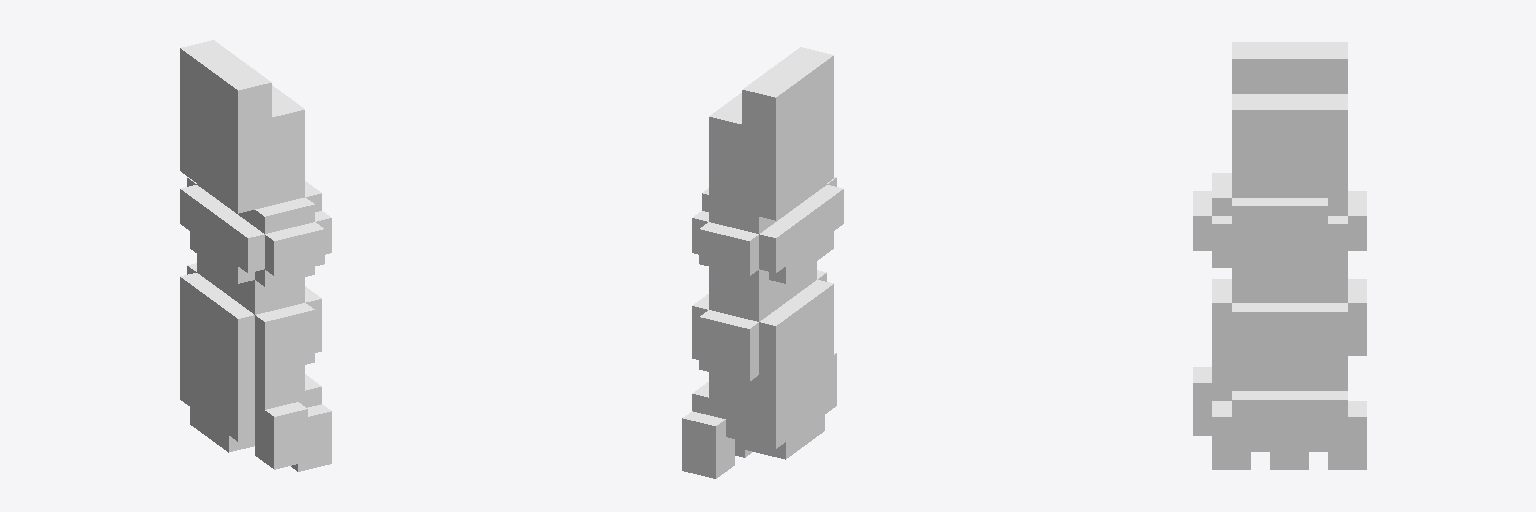
File: Pushkar-1.obj
3 renders of one model, left to right at view 1: azimuth 30°, elevation 25°; view 2: azimuth 150°, elevation 25°; view 3: azimuth 270°, elevation 25°, orthographic.
Visible parts, largest first — view 1: object 1; view 2: object 1; view 3: object 1.
Part boxes in pixels (left/top/right/bottom): object 1: left=180, top=40, right=331, bottom=471; object 1: left=682, top=47, right=843, bottom=478; object 1: left=1193, top=42, right=1366, bottom=469.
Size of the model in its own units: 0.5 by 2.2 by 0.9.